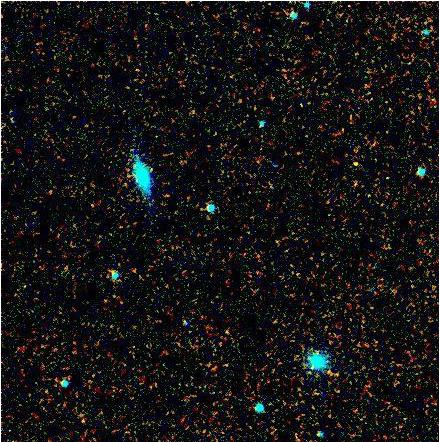star: (347, 147, 377, 177)
